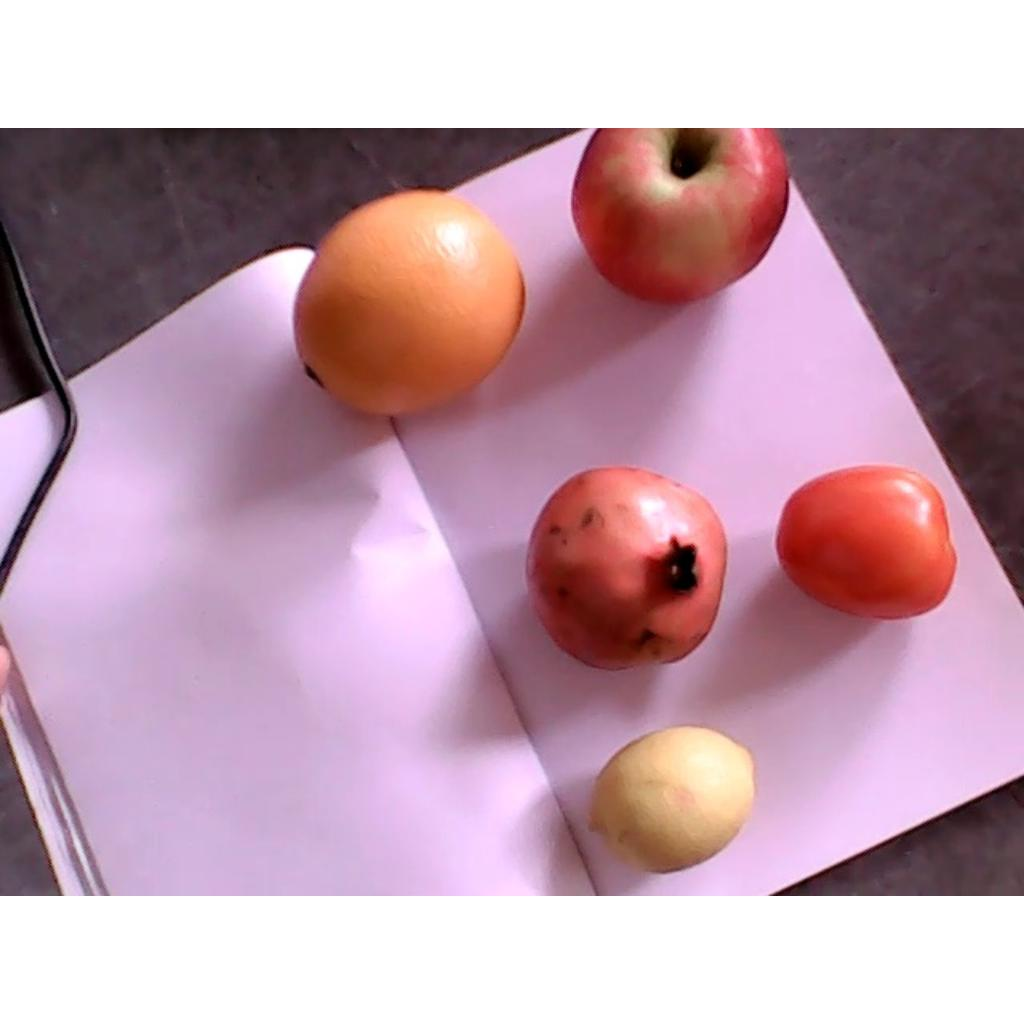apple: (572, 128, 790, 307)
lemon: (585, 726, 756, 873)
orange: (294, 188, 527, 414)
pomegranate: (523, 467, 727, 671)
tomato: (779, 465, 958, 617)
